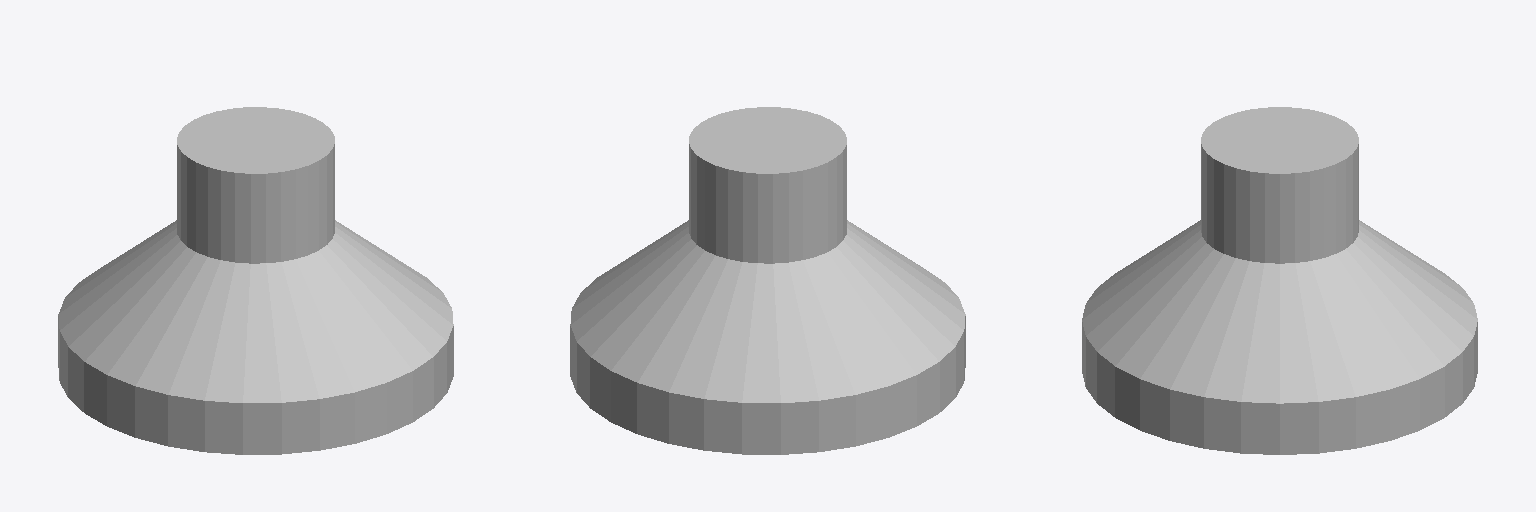
The model's file is Magnet.obj.
3 renders of one model, left to right at view 1: azimuth 30°, elevation 25°; view 2: azimuth 150°, elevation 25°; view 3: azimuth 270°, elevation 25°, orthographic.
Parts seen in each view (by area): view 1: Cylinder_Cylinder.002; view 2: Cylinder_Cylinder.002; view 3: Cylinder_Cylinder.002.
Boxes of the visible parts, <box> form: Cylinder_Cylinder.002: <box>58,107,453,454</box>; Cylinder_Cylinder.002: <box>570,107,965,454</box>; Cylinder_Cylinder.002: <box>1082,107,1477,454</box>.
Bounding box in the file's own units: 1.02 × 0.6554 × 1.02.